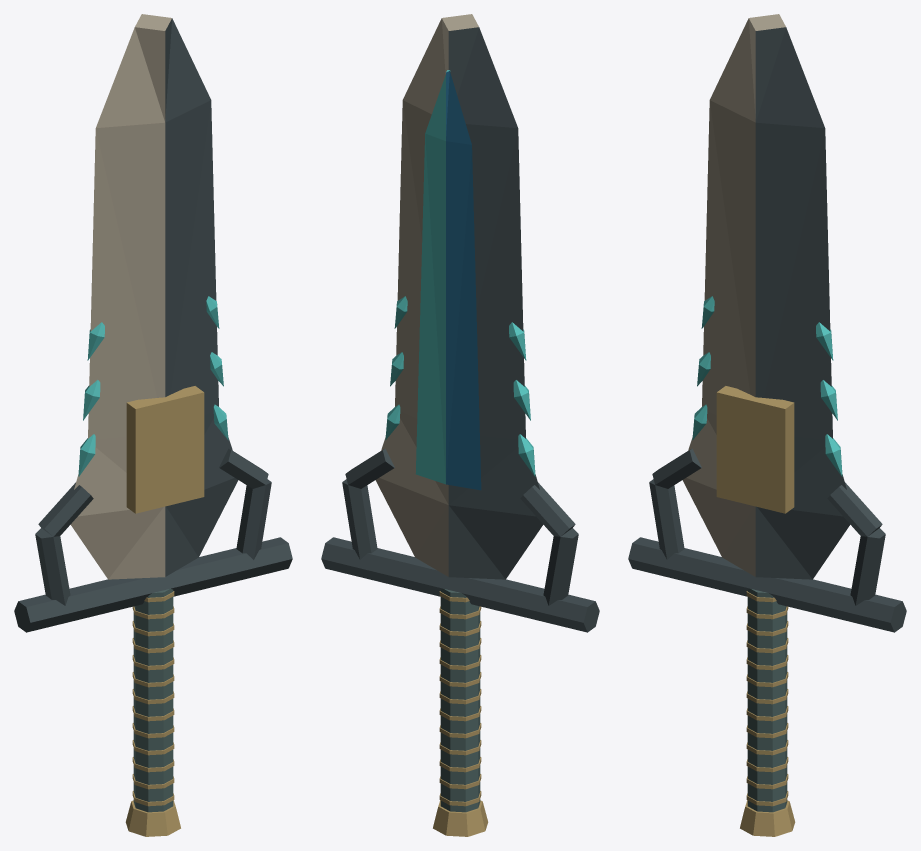
Rendered from Arsenal_FrostBell.fbx.
The picture shows the model from 3 angles, left to right: view 1: azimuth 30°, elevation 25°; view 2: azimuth 150°, elevation 25°; view 3: azimuth 330°, elevation 25°; orthographic projection.
Parts seen in each view (by area): view 1: Arsenal_FrostBell; view 2: Arsenal_FrostBell; view 3: Arsenal_FrostBell.
Part boxes in pixels (<box>): Arsenal_FrostBell: <box>14,14,292,836</box>; Arsenal_FrostBell: <box>321,14,599,836</box>; Arsenal_FrostBell: <box>628,14,906,836</box>.
Bounding box in the file's own units: 0.84 × 2.46 × 0.172.
